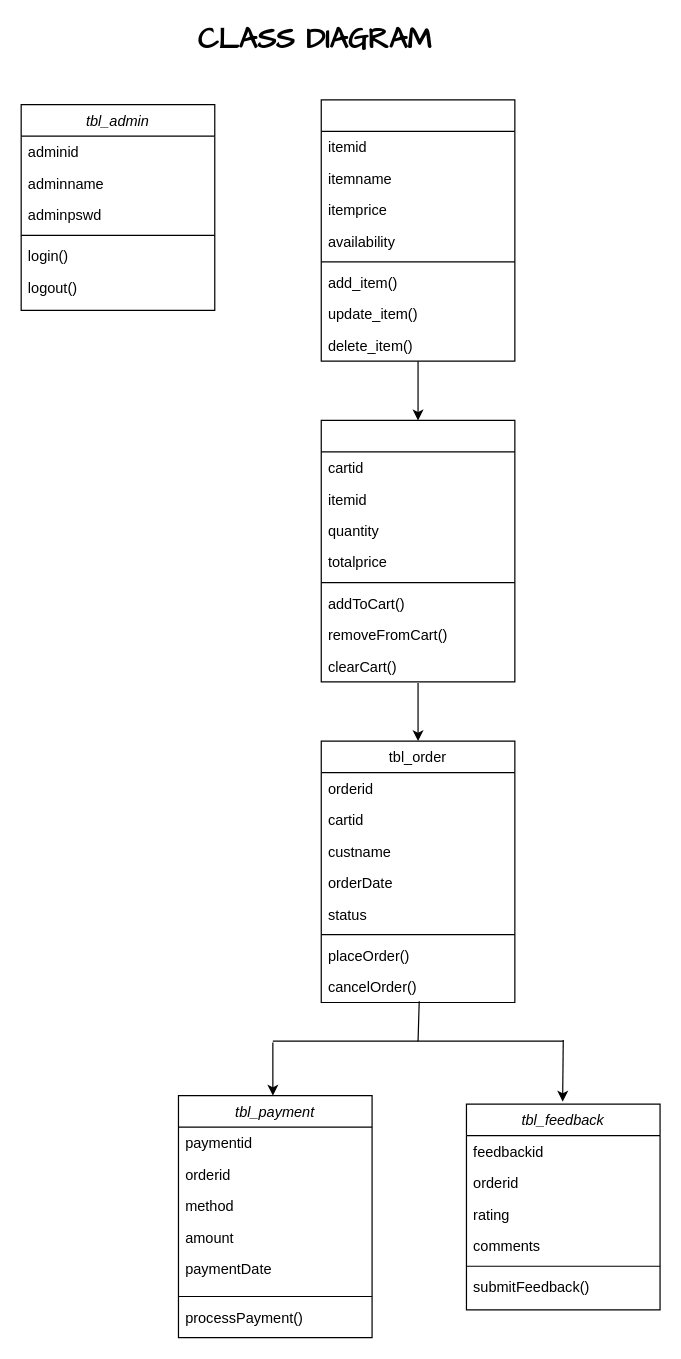
Some shapes in this 681 by 1359 pixel diagram are drawn without their labels. The shapes that lost their labels are listed below. From the top down, each one's box as (x1, y1, x2, y2) in pixels, then its label:
(320, 99, 515, 361): tbl_foodItem
(320, 419, 515, 682): tbl_shoppingCart
